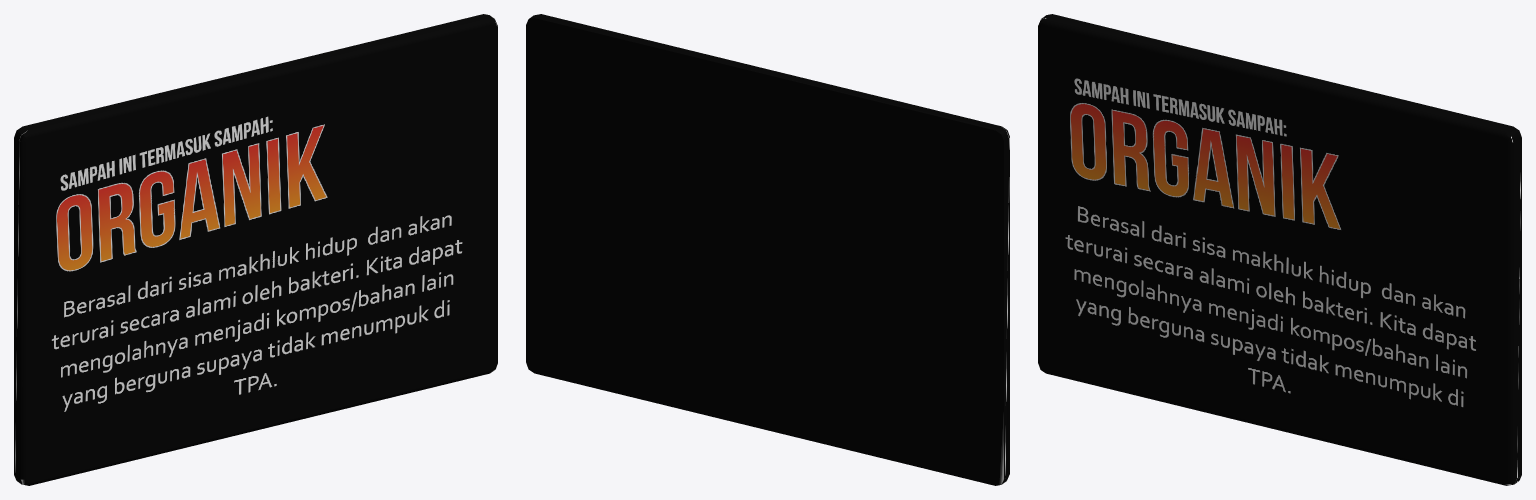
Rendered from penjelasanorganik.fbx.
3 views of the same model, side by side, from view 1: azimuth 30°, elevation 25°; view 2: azimuth 150°, elevation 25°; view 3: azimuth 330°, elevation 25° (orthographic).
Parts seen in each view (by area): view 1: pCube3; view 2: pCube3; view 3: pCube3.
Part boxes in pixels (<box>): pCube3: <box>14,14,497,485</box>; pCube3: <box>526,14,1009,485</box>; pCube3: <box>1038,14,1521,485</box>.
Bounding box in the file's own units: 5.47 × 3.89 × 0.159.
1 material, 1 textured.
